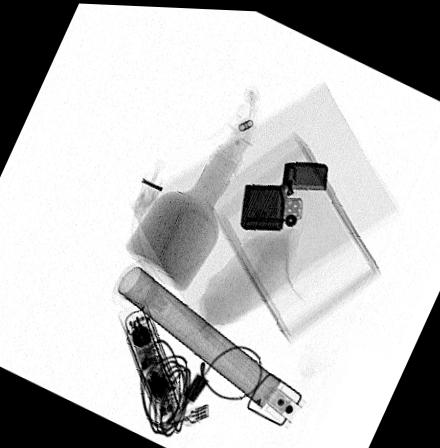Lighter: (240, 158, 329, 228)
